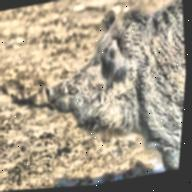boar: (28, 0, 192, 189)
